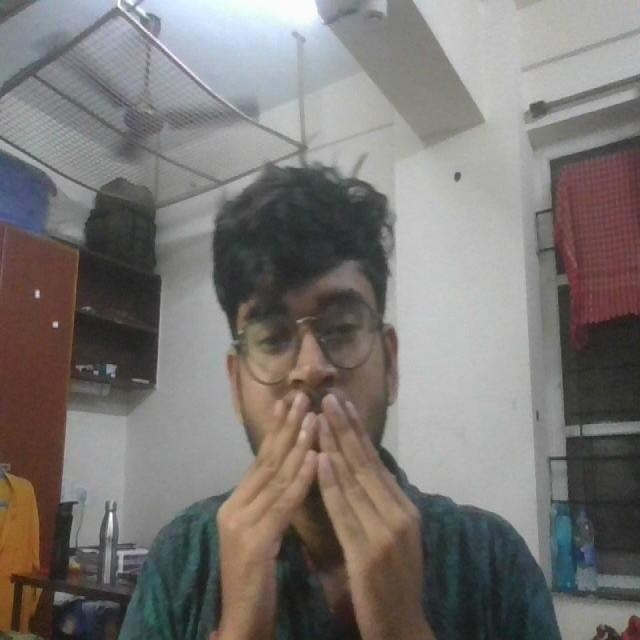Thanks: (199, 388, 449, 640)
